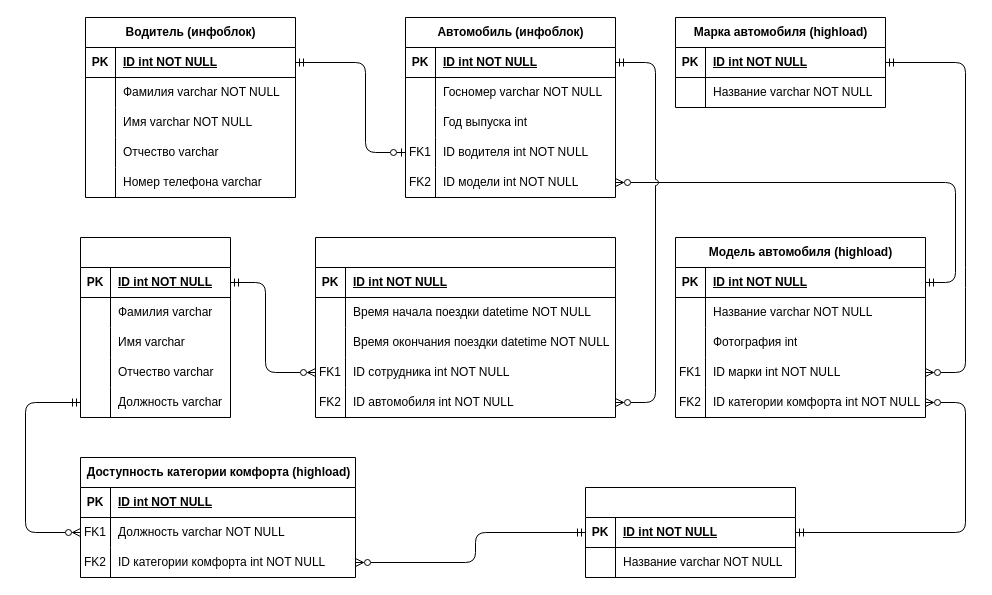
Some shapes in this 992 by 595 pixel diagram are drawn without their labels. The box of each missing label's shape, as (x1, y1, x2, y2) in pixels:
Бронирование автомобиля (highload): (314, 236, 616, 418)
Категория комфорта (highload): (584, 486, 796, 578)
Сотрудник (CUSER): (80, 236, 230, 418)
